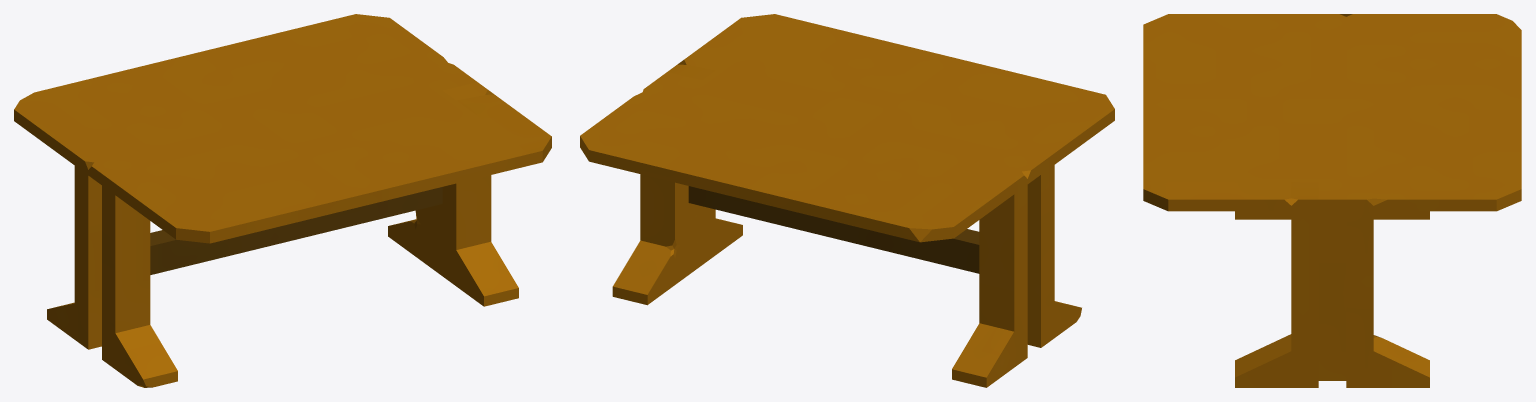
Rendered from Table_2.fbx.
The picture shows the model from 3 angles, left to right: view 1: azimuth 30°, elevation 25°; view 2: azimuth 150°, elevation 25°; view 3: azimuth 270°, elevation 25°; orthographic projection.
Visible parts, largest first — view 1: Table 2; view 2: Table 2; view 3: Table 2.
Part boxes in pixels (x1,y1,x2,y2): Table 2: (14, 14, 551, 387); Table 2: (580, 14, 1114, 387); Table 2: (1143, 14, 1521, 387).
Bounding box in the file's own units: 200 × 94.58 × 172.
